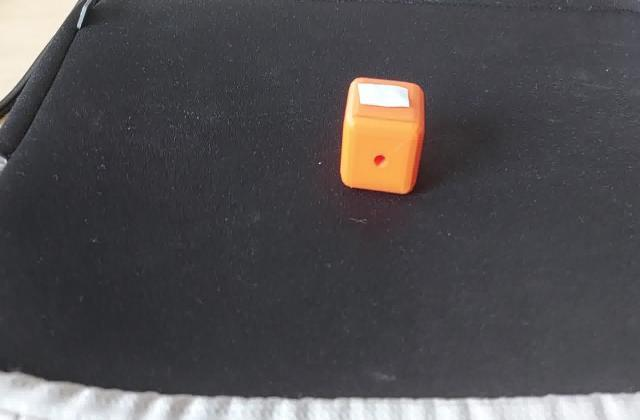cube: (336, 74, 431, 200)
white: (357, 82, 413, 114)
